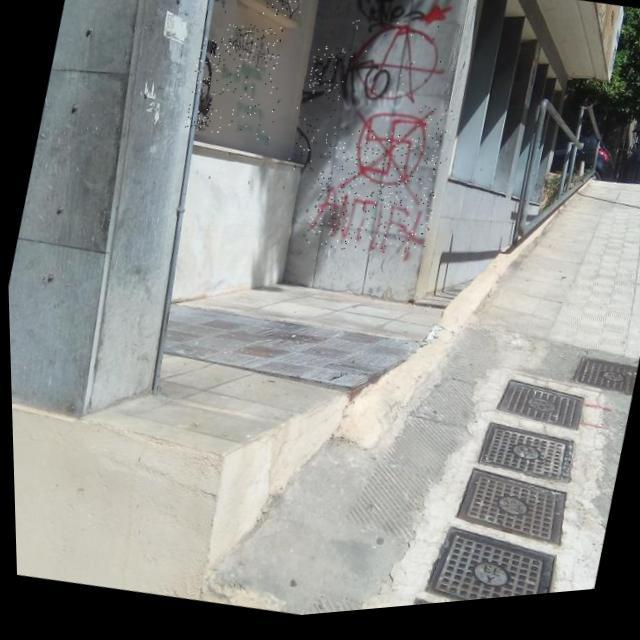-: (300, 91, 454, 278), (342, 0, 462, 121), (206, 60, 287, 152), (303, 45, 398, 122), (332, 83, 422, 149), (180, 37, 228, 137), (348, 0, 428, 54), (281, 88, 327, 180), (218, 20, 285, 83), (261, 0, 308, 28), (206, 0, 235, 18)
